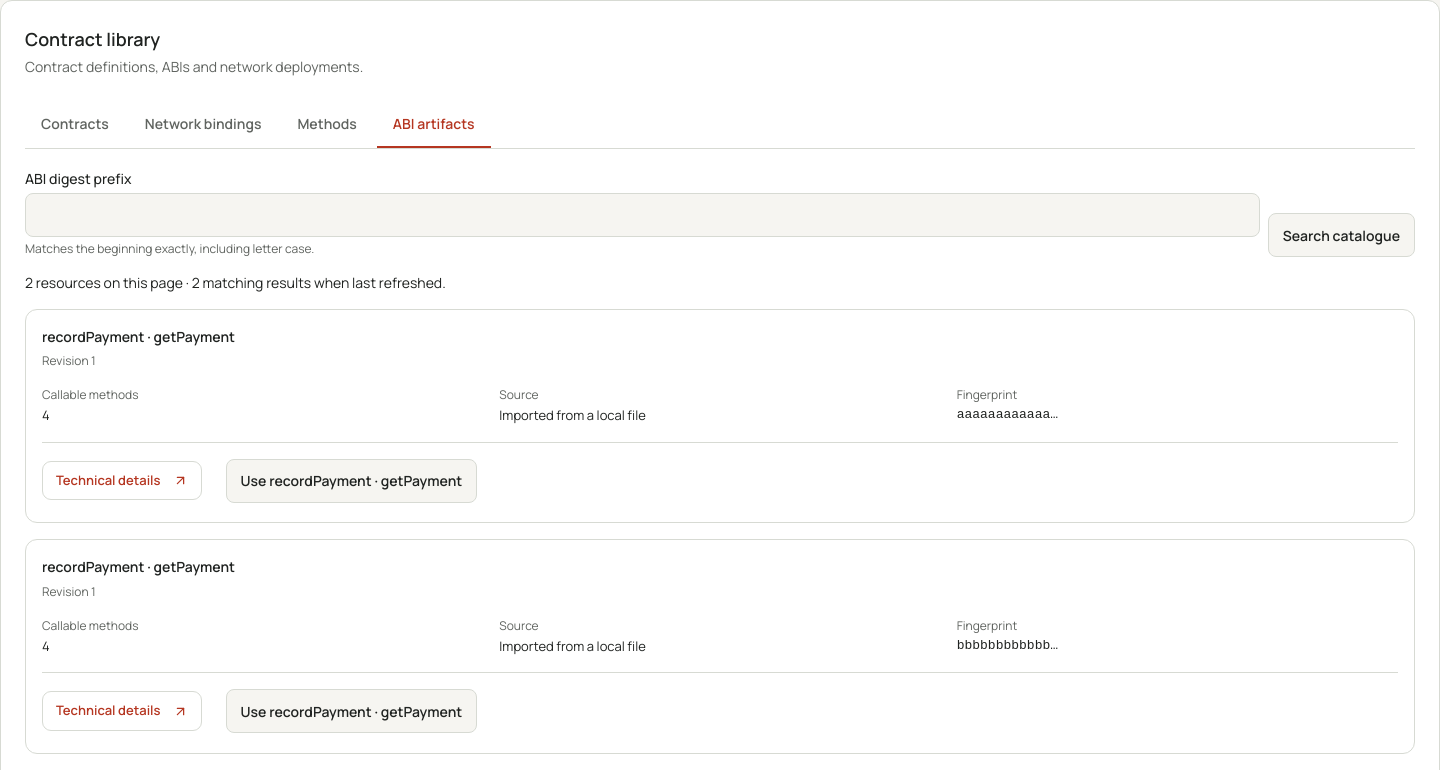
distinguishes otherwise similar ABIs and selects the exact resource without a command
Expected: the text "aaaaaaaaaaaa…" is shown, [957,407,1058,422]
Expected: the text "bbbbbbbbbbbb…" is shown, [957,638,1058,653]
Click the 2nd button "Use recordPayment · getPayment".
click(351, 711)  # box [226,689,477,733]
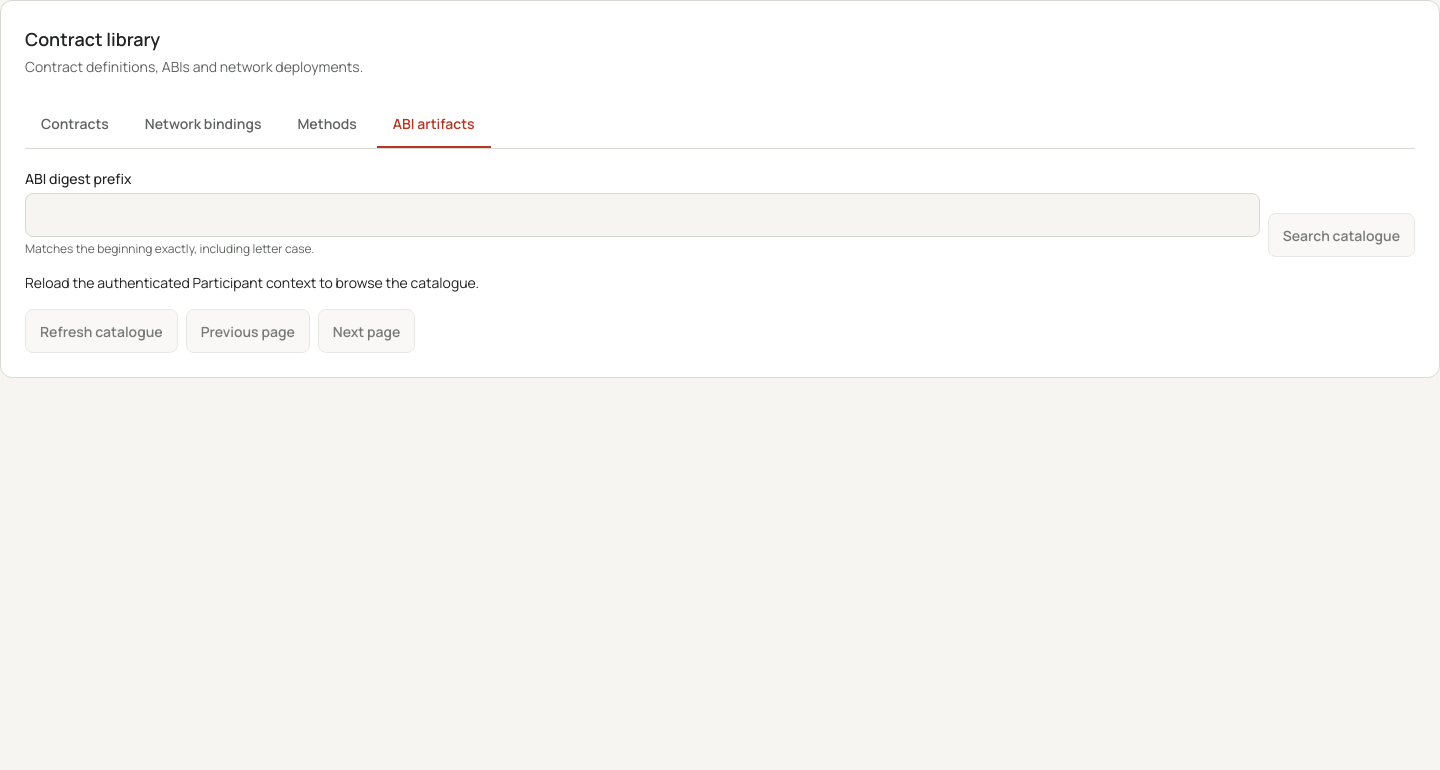
Now the text "bbbbbbbbbbbb…" is gone
Now the heading "recordPayment · getPayment" is gone
